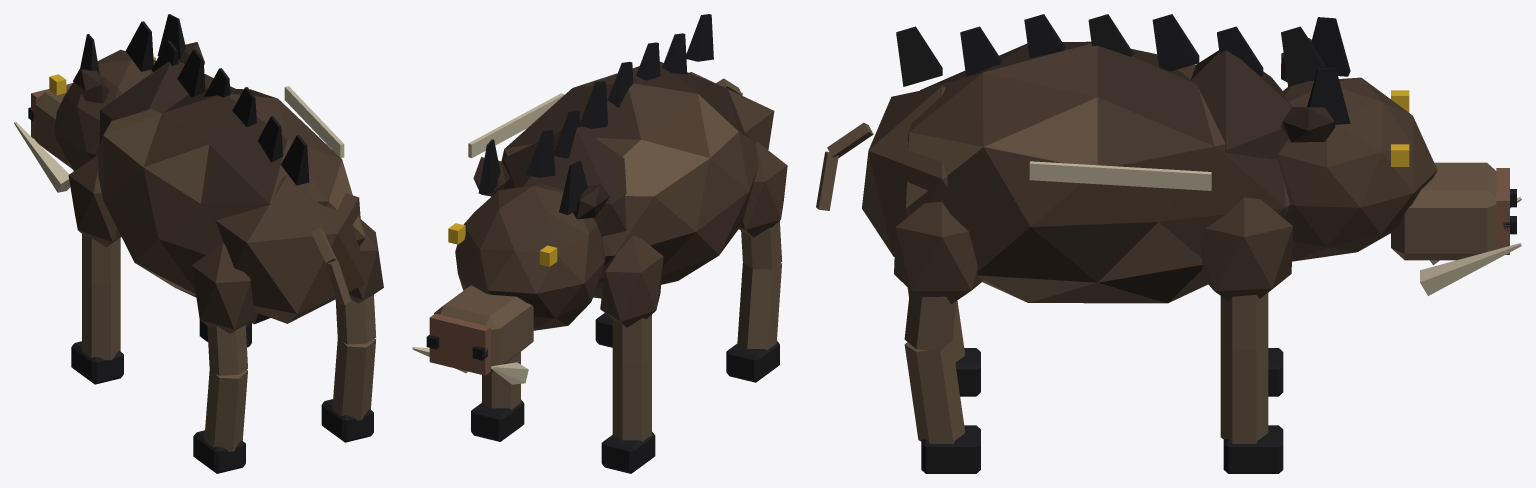
The model's file is animal_boar.fbx.
3 renders of one model, left to right at view 1: azimuth 30°, elevation 25°; view 2: azimuth 150°, elevation 25°; view 3: azimuth 270°, elevation 25°, orthographic. The views are drawn at different scales.
Parts seen in each view (by area): view 1: Torso, Hindleg_L, Head, Foreleg_L, Hindleg_R; view 2: Torso, Head, Foreleg_L, Hindleg_L, Foreleg_R, Hindleg_R; view 3: Torso, Head, Foreleg_R, Hindleg_R, Hindleg_L, Foreleg_L.
Boxes of the visible parts, bbox=[...] form: Torso: bbox=[96, 21, 365, 324]; Hindleg_L: bbox=[191, 243, 254, 473]; Head: bbox=[14, 14, 204, 192]; Foreleg_L: bbox=[68, 155, 123, 384]; Hindleg_R: bbox=[321, 219, 383, 442]; Torso: bbox=[468, 14, 774, 298]; Head: bbox=[412, 139, 609, 384]; Foreleg_L: bbox=[600, 235, 663, 473]; Hindleg_L: bbox=[726, 141, 787, 382]; Foreleg_R: bbox=[471, 352, 524, 441]; Hindleg_R: bbox=[595, 313, 612, 347]; Torso: bbox=[816, 14, 1327, 303]; Head: bbox=[1277, 17, 1521, 295]; Foreleg_R: bbox=[1199, 197, 1292, 473]; Hindleg_R: bbox=[894, 201, 983, 473]; Hindleg_L: bbox=[907, 288, 980, 396]; Foreleg_L: bbox=[1268, 348, 1283, 396].
Bounding box in the file's own units: 0.6386 × 0.994 × 1.54.
